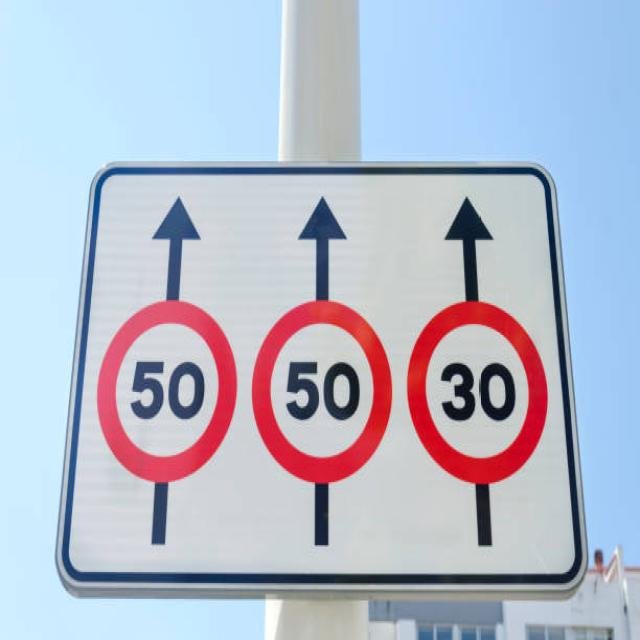Speed limit 30: (407, 294, 553, 494)
Speed limit 50: (248, 295, 401, 485), (94, 295, 241, 485)
